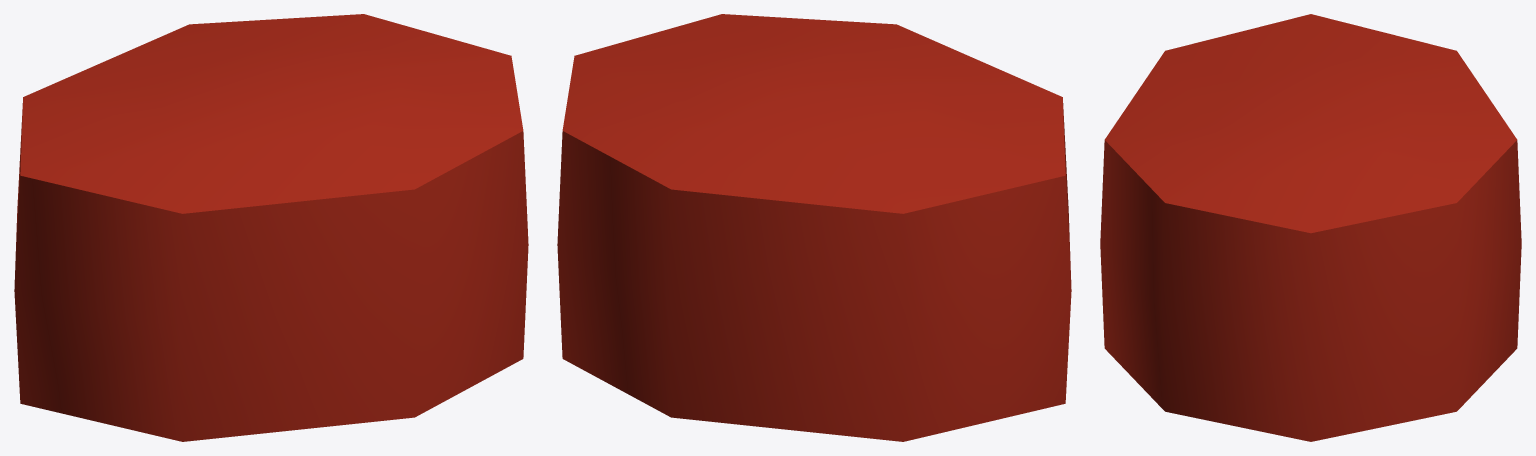
File: filet01.FBX
3 views of the same model, side by side, from view 1: azimuth 30°, elevation 25°; view 2: azimuth 150°, elevation 25°; view 3: azimuth 270°, elevation 25° (orthographic). The views are drawn at different scales.
Parts seen in each view (by area): view 1: filet; view 2: filet; view 3: filet.
Part boxes in pixels (x1,y1,x2,y2): filet: (14, 14, 528, 441); filet: (557, 14, 1071, 441); filet: (1100, 14, 1521, 441).
Bounding box in the file's own units: 18.01 × 8.56 × 14.31.
